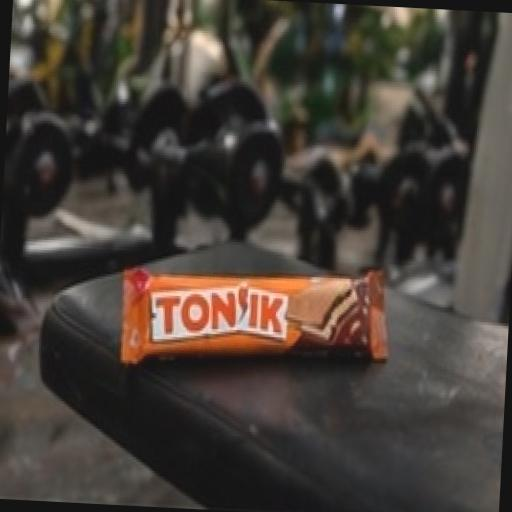tonik: (68, 160, 444, 478)
